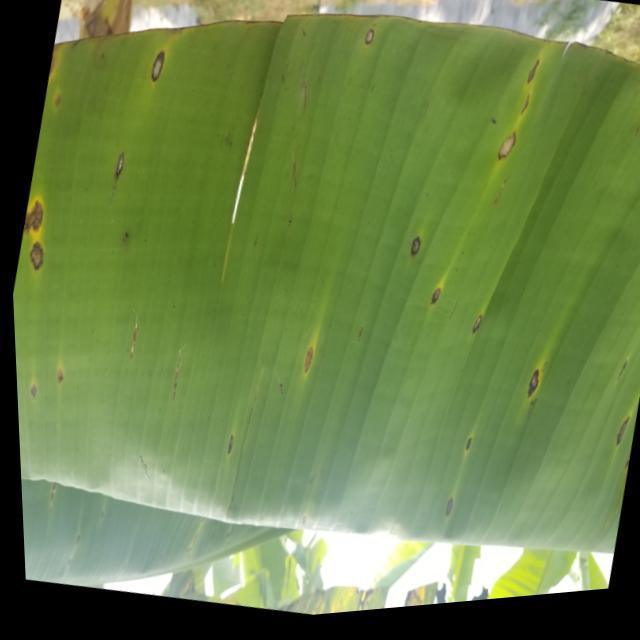Early_rust: (385, 225, 546, 402), (72, 39, 194, 191), (480, 41, 557, 165), (9, 168, 89, 283), (415, 408, 485, 537), (5, 343, 89, 413), (281, 315, 331, 394), (596, 403, 640, 491)
